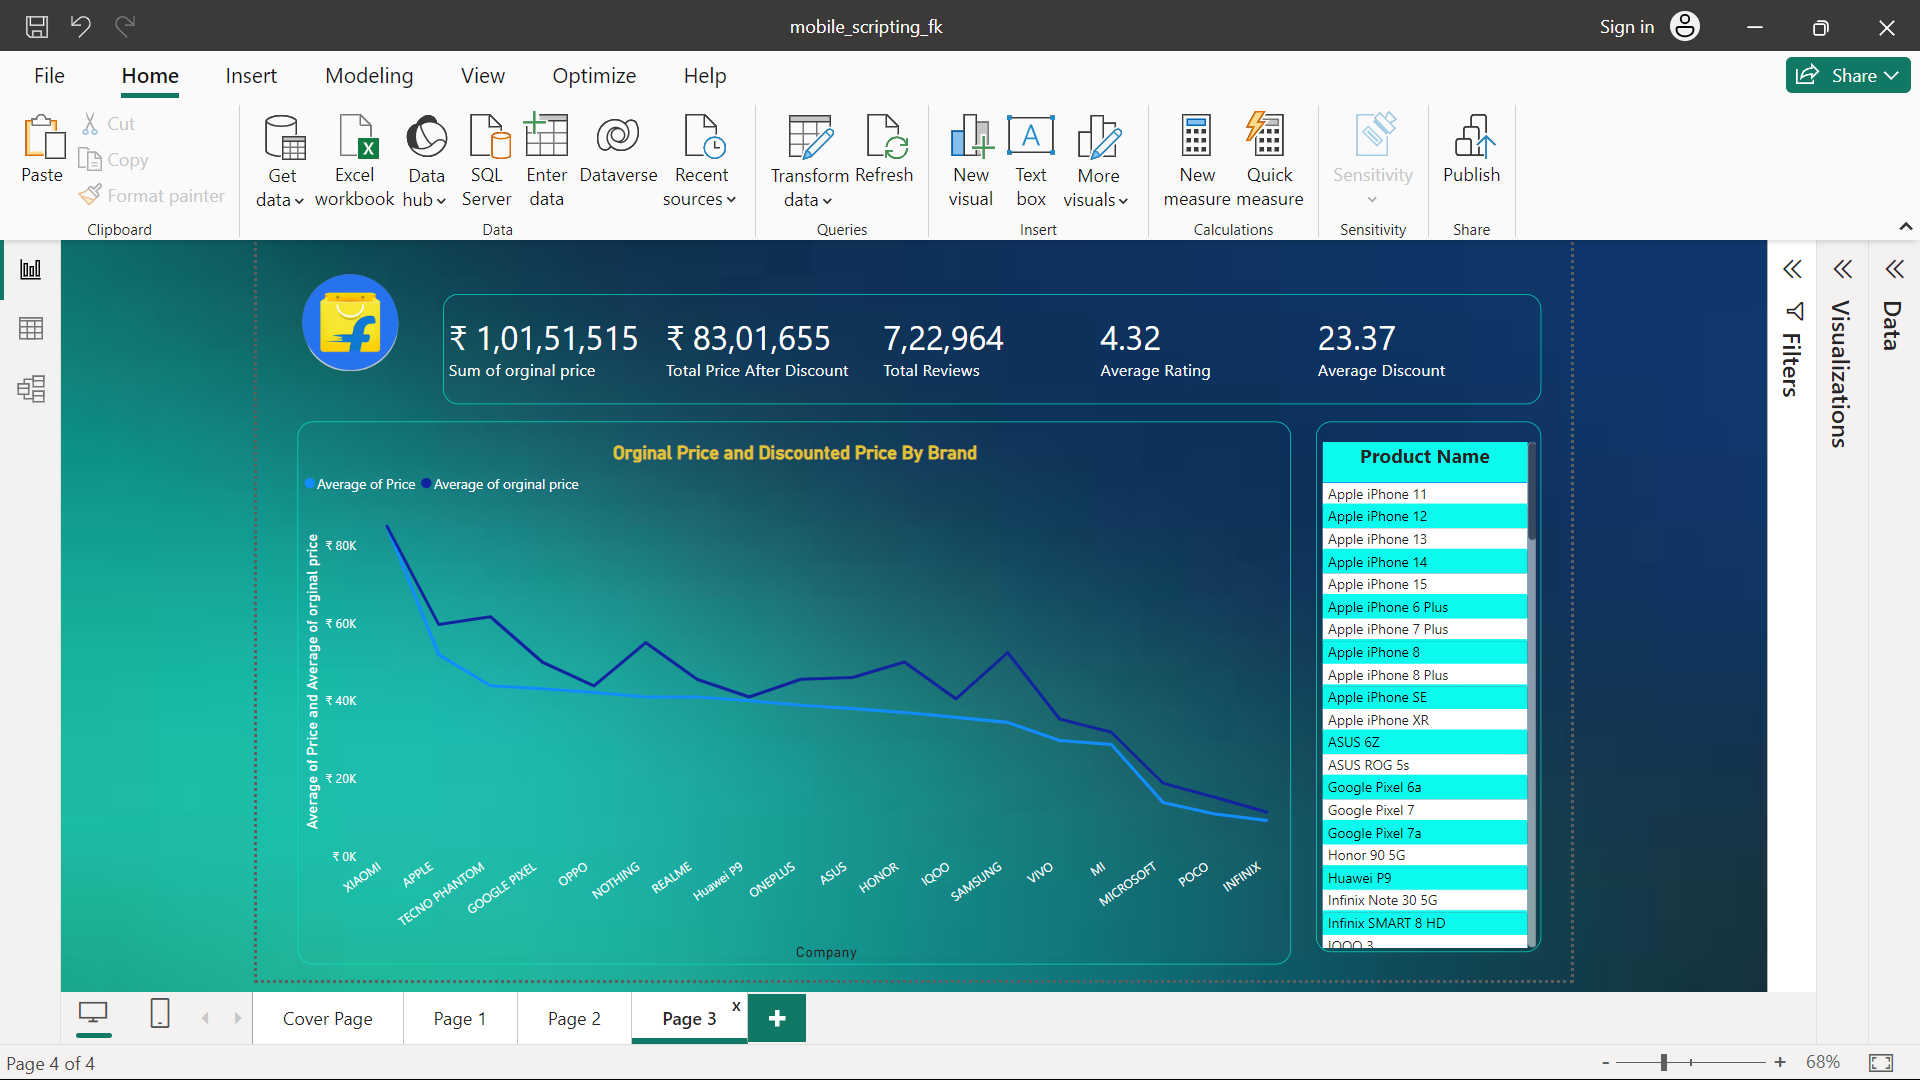

Layout of this report page (visuals, bound fields, positions):
{"tool":"powerbi","page":{"name":"Page 3","canvas":[1280,720],"ordinal":3},"visuals":[{"type":"lineChart","title":"Orginal Price and Discounted Price By Brand","fields":{"Y":["Avg(df.Price)","Avg(df.orginal price)"],"Category":["df.Company"]},"box":[39.4,177.2,1211.4,528.5],"z":0},{"type":"multiRowCard","fields":{"Values":["Sum(df.orginal price)","Sum(df.Price)","Sum(df.Reviews)","Avg(df.Rating out of 5)","Avg(df.Discount in %)"]},"box":[181.7,53,1069,107.5],"z":1000},{"type":"image","box":[0,0,181.7,160.5],"z":2000}]}

Visuals, with their boxes on the page's 1280x720 design canvas (x1, y1, x2, y2). These are canvas units, not pixel positions in the 1920x1080 screenshot, which may show the page scaled, cropped or inside an application window:
"Orginal Price and Discounted Price By Brand" lineChart: (left=39, top=177, right=1251, bottom=706)
multiRowCard - Sum(df.orginal price) x Sum(df.Price): (left=182, top=53, right=1251, bottom=160)
image: (left=0, top=0, right=182, bottom=160)
